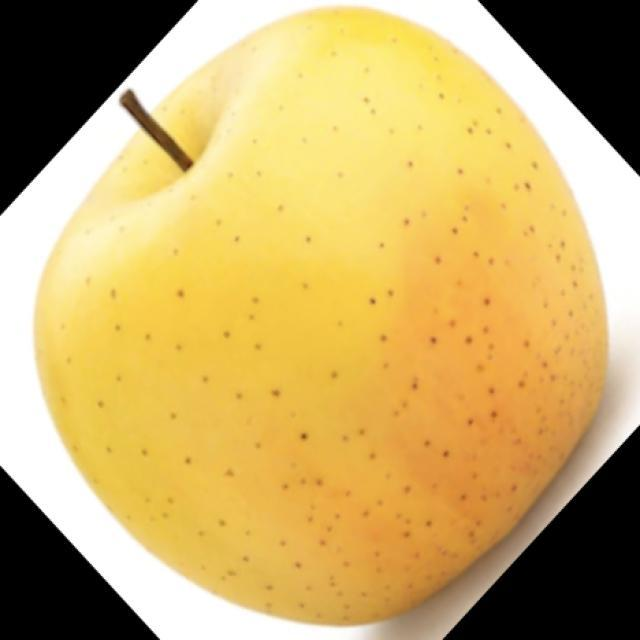Apple: (32, 3, 610, 627)
